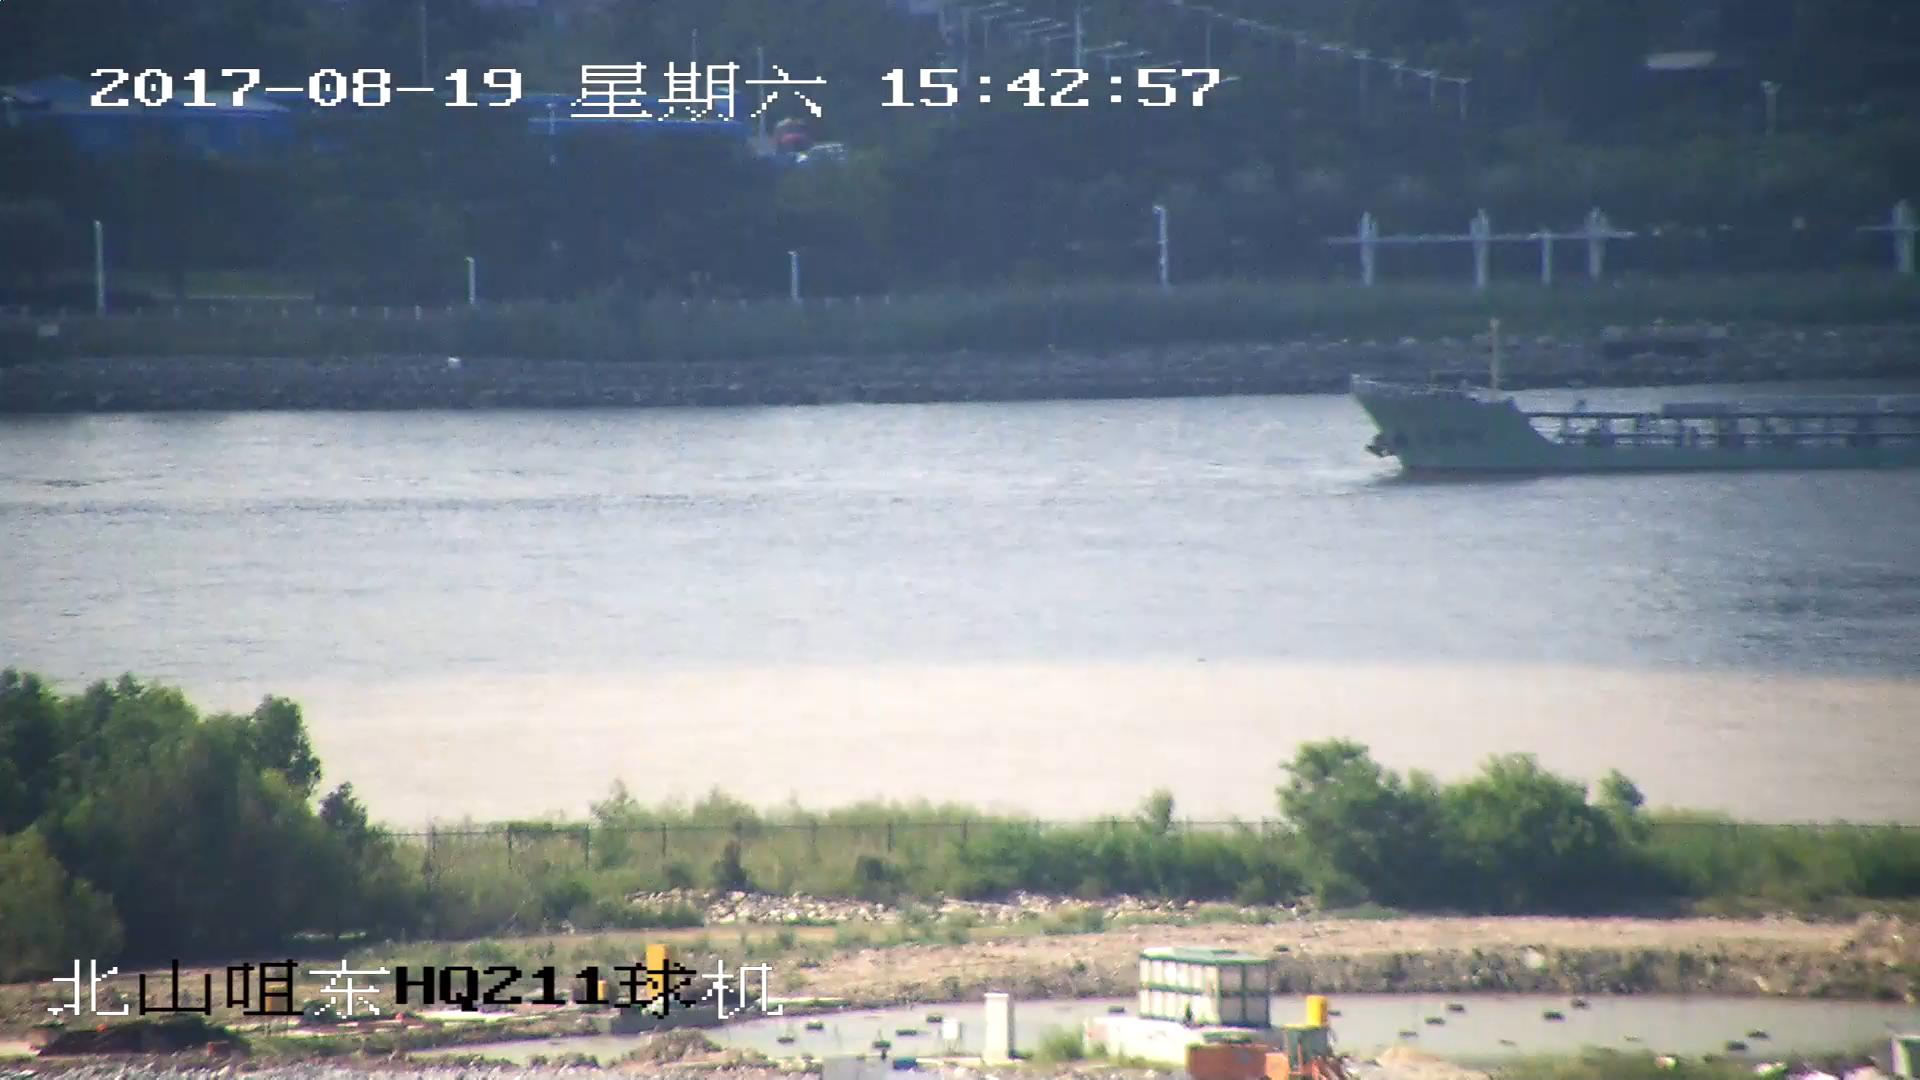general cargo ship: (1351, 383, 1920, 473)
